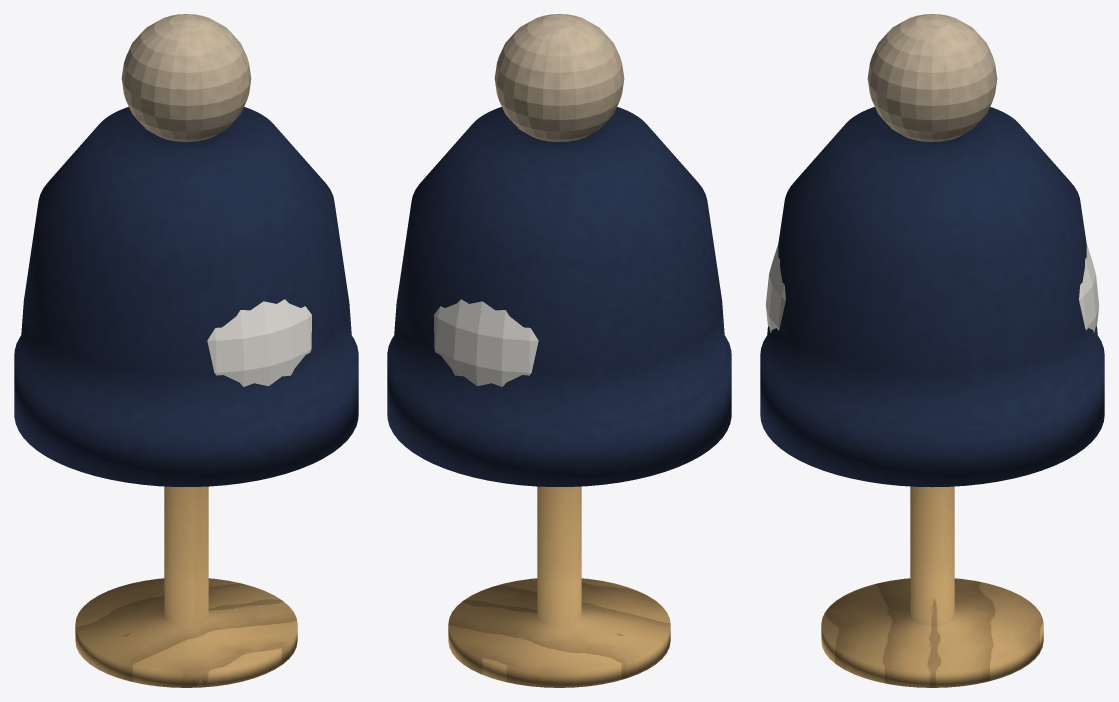
File: beanie-navy.glb
The picture shows the model from 3 angles, left to right: view 1: azimuth 30°, elevation 25°; view 2: azimuth 150°, elevation 25°; view 3: azimuth 270°, elevation 25°; orthographic projection.
Visible parts, largest first — view 1: fabric_primary_knit, wood_v, pompom, form_white; view 2: fabric_primary_knit, wood_v, pompom, form_white; view 3: fabric_primary_knit, wood_v, pompom, form_white.
Boxes of the visible parts, <box> form: fabric_primary_knit: <box>14,107,358,486</box>; wood_v: <box>75,486,297,687</box>; pompom: <box>121,14,251,142</box>; form_white: <box>207,299,311,386</box>; fabric_primary_knit: <box>387,107,731,486</box>; wood_v: <box>448,486,670,687</box>; pompom: <box>494,14,624,142</box>; form_white: <box>433,299,538,386</box>; fabric_primary_knit: <box>760,107,1104,487</box>; wood_v: <box>821,486,1043,687</box>; pompom: <box>867,14,997,142</box>; form_white: <box>765,244,1099,332</box>.
Bounding box in the file's own units: 0.186 × 0.37 × 0.186.
4 materials, 3 textured.
